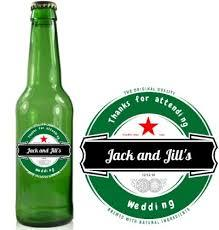Glass bottle: (3, 0, 77, 230)
